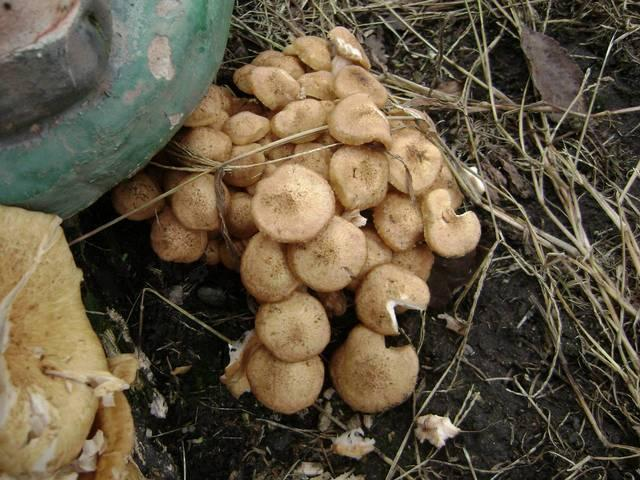edible_mushroom: (109, 24, 482, 416)
